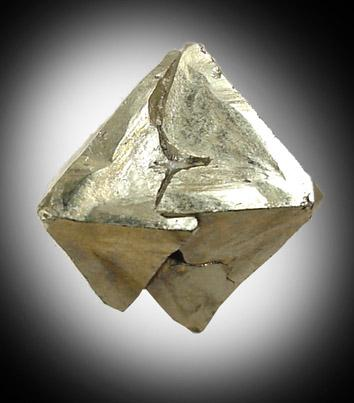pyrite: (35, 43, 324, 335)
